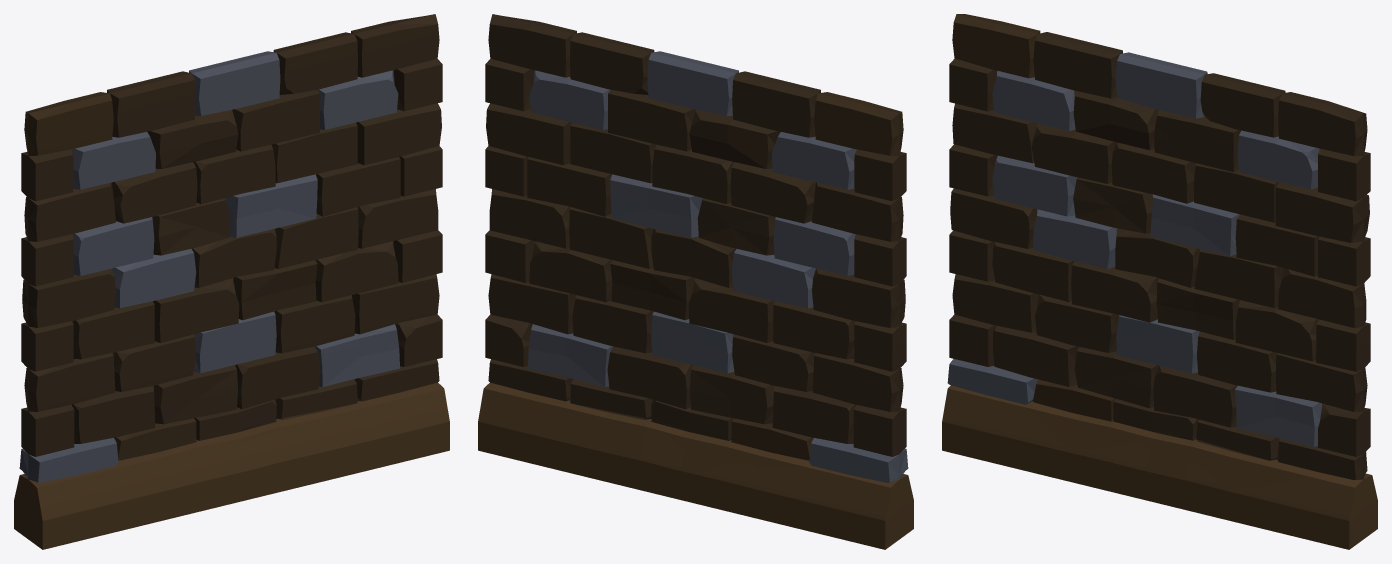
File: Wall_06.fbx
3 renders of one model, left to right at view 1: azimuth 30°, elevation 25°; view 2: azimuth 150°, elevation 25°; view 3: azimuth 330°, elevation 25°, orthographic.
Visible parts, largest first — view 1: Wall_06; view 2: Wall_06; view 3: Wall_06.
Part boxes in pixels (x1=…): Wall_06: x1=14, y1=14, x2=449, y2=549; Wall_06: x1=478, y1=14, x2=913, y2=549; Wall_06: x1=942, y1=14, x2=1377, y2=549.
Bounding box in the file's own units: 4 × 4 × 0.4882.
